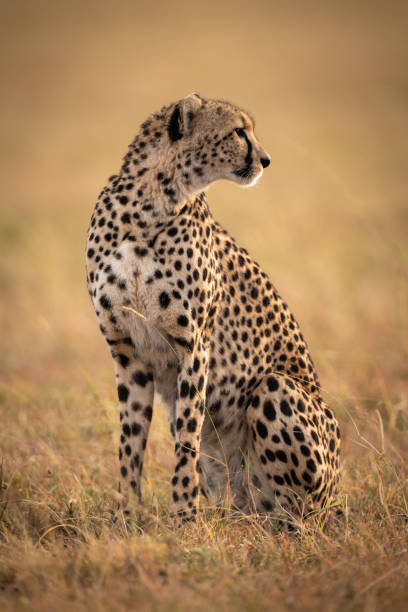cheetah: (146, 84, 284, 197)
